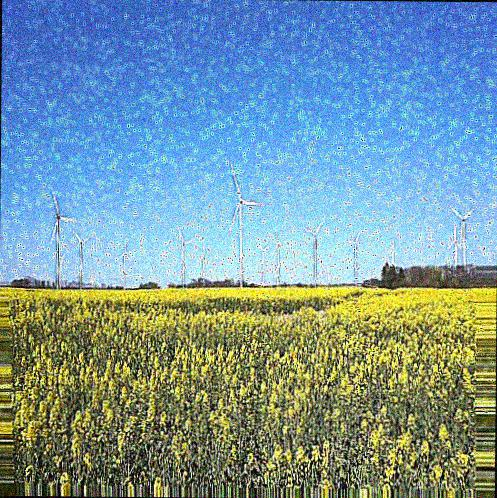wind turbine: (228, 163, 266, 289), (49, 191, 80, 289), (450, 204, 477, 270)
